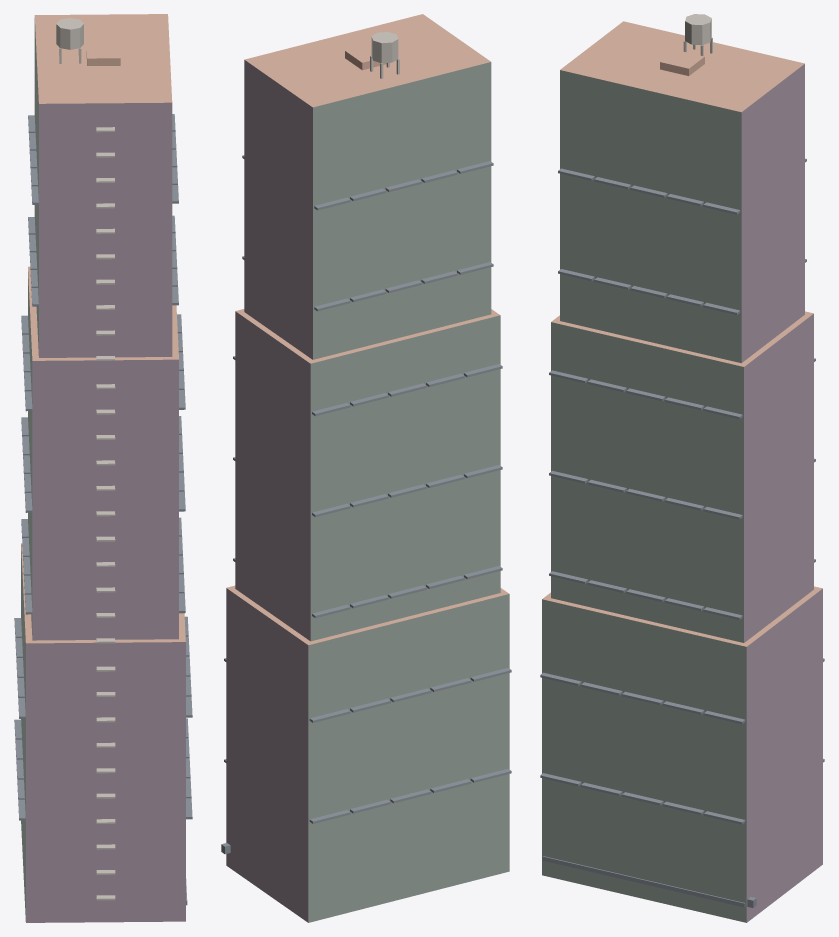
The model's file is doitt-982383__lod_1.glb.
3 renders of one model, left to right at view 1: azimuth 30°, elevation 25°; view 2: azimuth 150°, elevation 25°; view 3: azimuth 270°, elevation 25°, orthographic.
Size of the model in its own units: 34.1 by 121 by 37.16.
